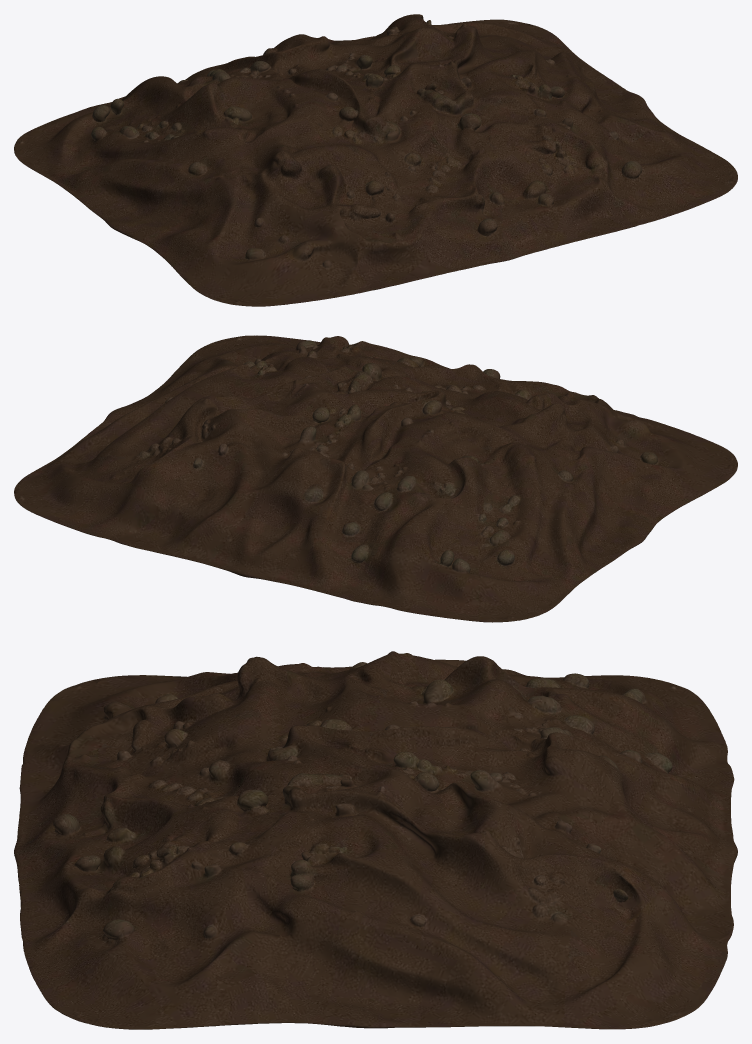
Rendered from Meshy_AI_Seamless_top_down_tex_0824213011_texture-optimized.glb.
The picture shows the model from 3 angles, top to bottom: view 1: azimuth 30°, elevation 25°; view 2: azimuth 150°, elevation 25°; view 3: azimuth 270°, elevation 25°; orthographic projection. The views are drawn at different scales.
Parts seen in each view (by area): view 1: mesh_node; view 2: mesh_node; view 3: mesh_node.
Part boxes in pixels (x1=…): mesh_node: x1=14, y1=14, x2=737, y2=306; mesh_node: x1=14, y1=335, x2=737, y2=622; mesh_node: x1=14, y1=651, x2=737, y2=1029.
Size of the model in its own units: 1.9 by 0.2841 by 1.64.
Materials: 1 (1 with a texture image).
